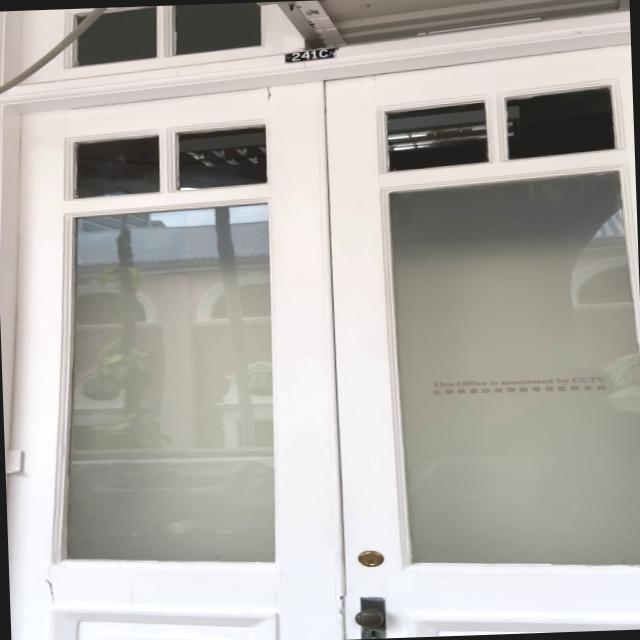room241c: (280, 44, 340, 66)
